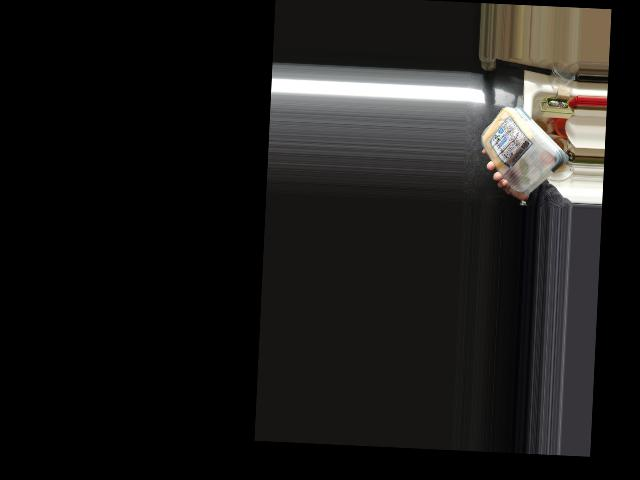cheese: (483, 104, 558, 195)
